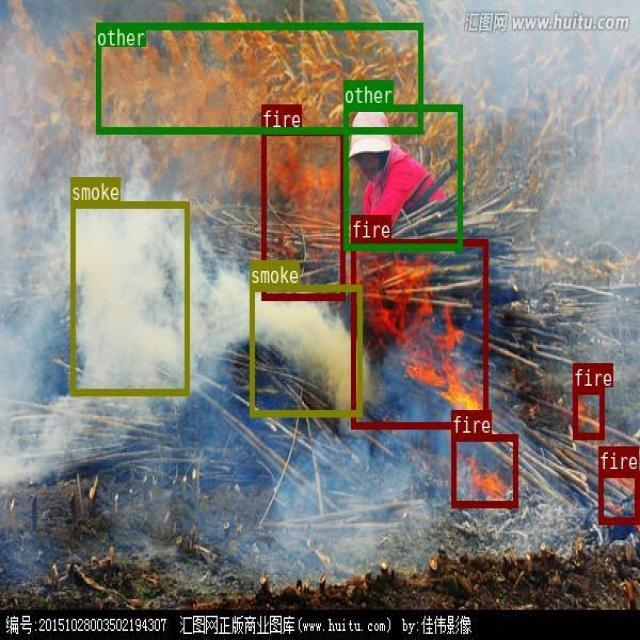fire: (350, 238, 487, 427), (261, 128, 344, 299), (451, 433, 517, 506), (598, 470, 638, 522), (573, 387, 603, 438)
smoke: (70, 201, 189, 394), (249, 284, 361, 416)
